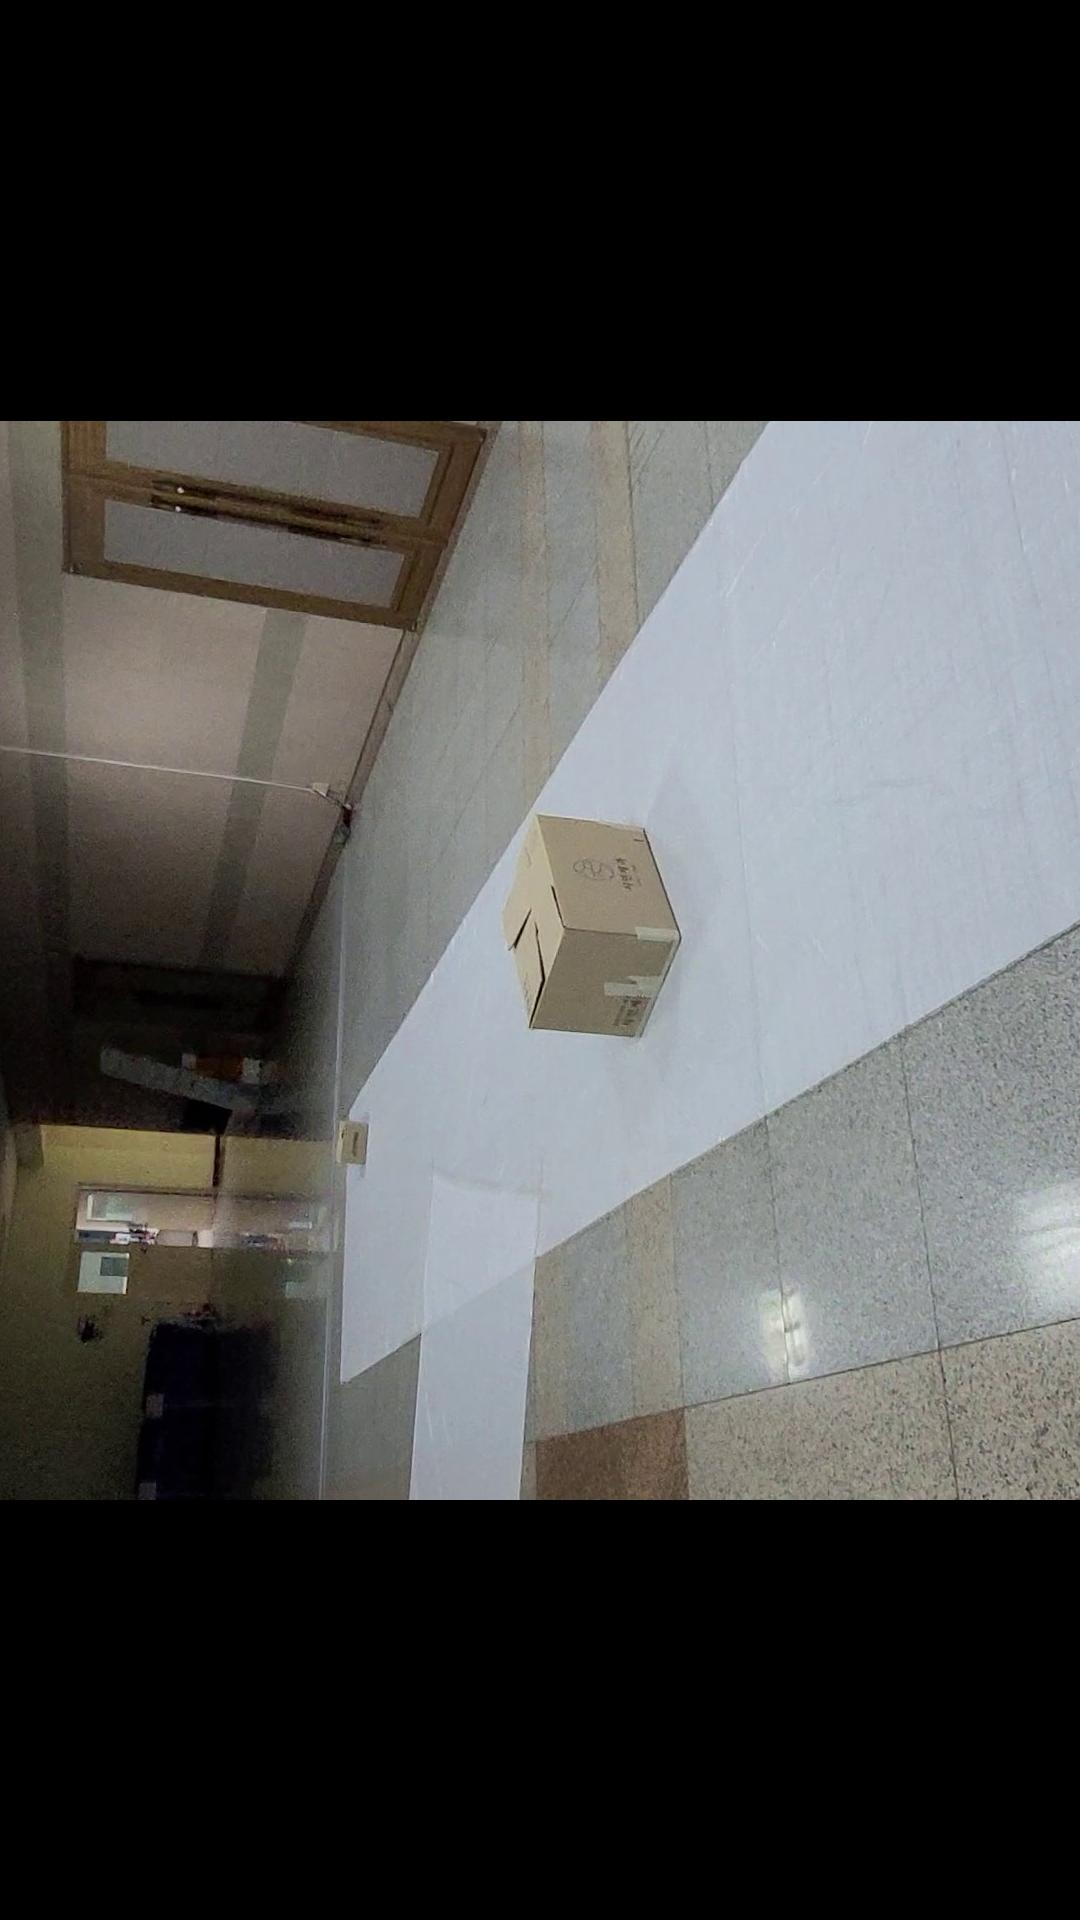Box: (488, 781, 703, 1062), (305, 1075, 392, 1192)
